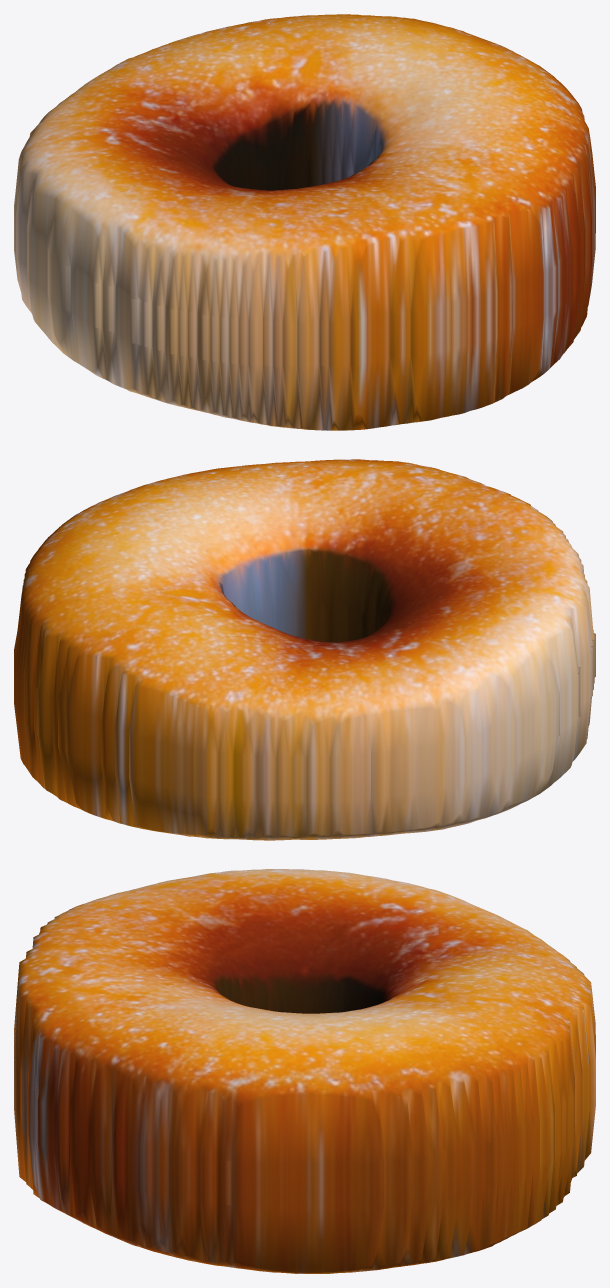
File: donut_2_1.obj
3 views of the same model, one above another, from view 1: azimuth 30°, elevation 25°; view 2: azimuth 150°, elevation 25°; view 3: azimuth 270°, elevation 25° (orthographic). The views are drawn at different scales.
Parts seen in each view (by area): view 1: Grid; view 2: Grid; view 3: Grid.
Part boxes in pixels (x1,y1,x2,y2): Grid: [14, 14, 595, 430]; Grid: [14, 459, 595, 840]; Grid: [14, 869, 595, 1273].
Size of the model in its own units: 1.65 by 0.7 by 1.67.
